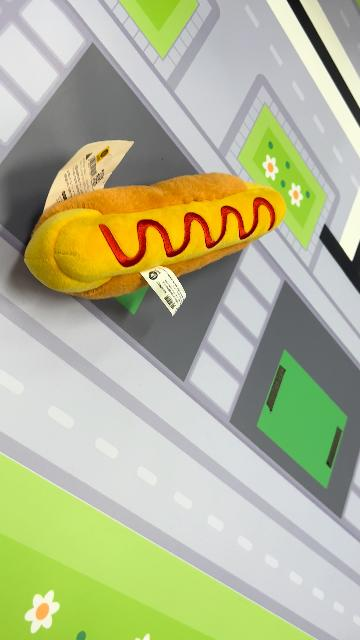hotdog: (23, 172, 288, 302)
